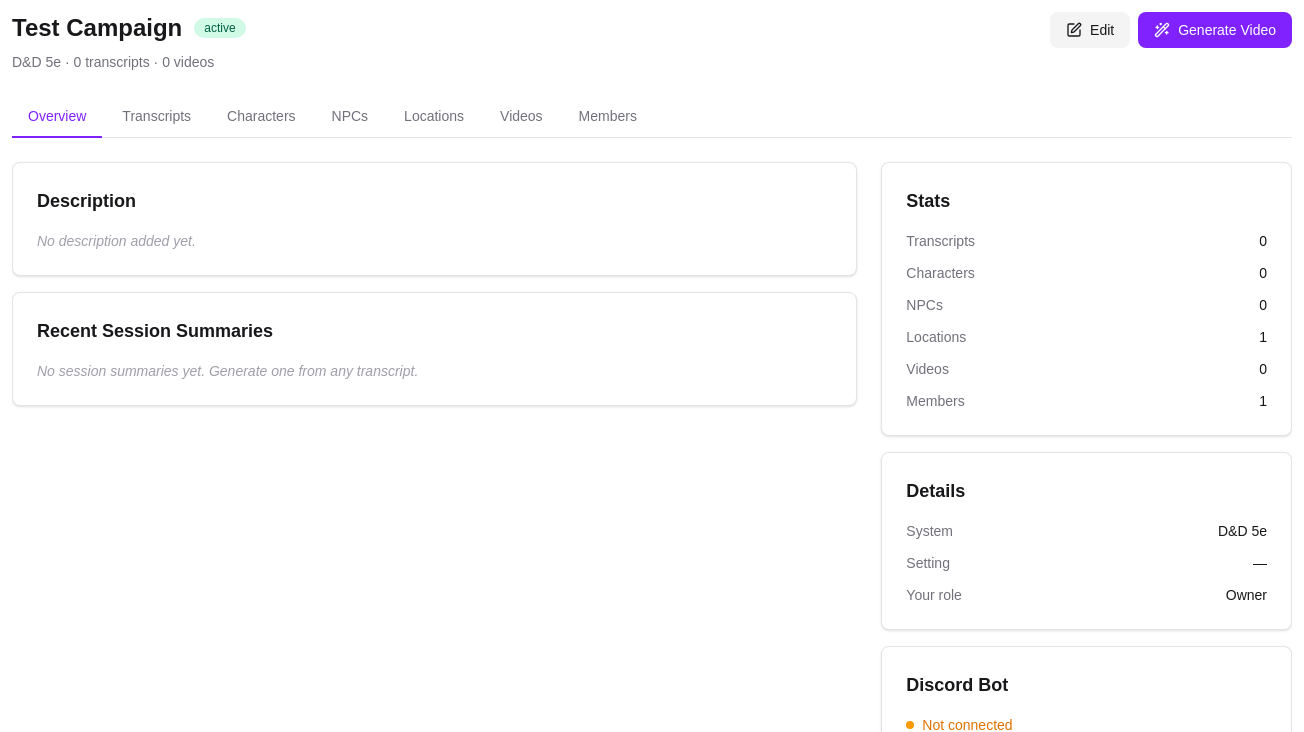
Test: CampaignDetailTabs — tab content › renders Location cards when locations exist
Click the button "Locations" at [434, 117], box left=388, top=96, right=480, bottom=138
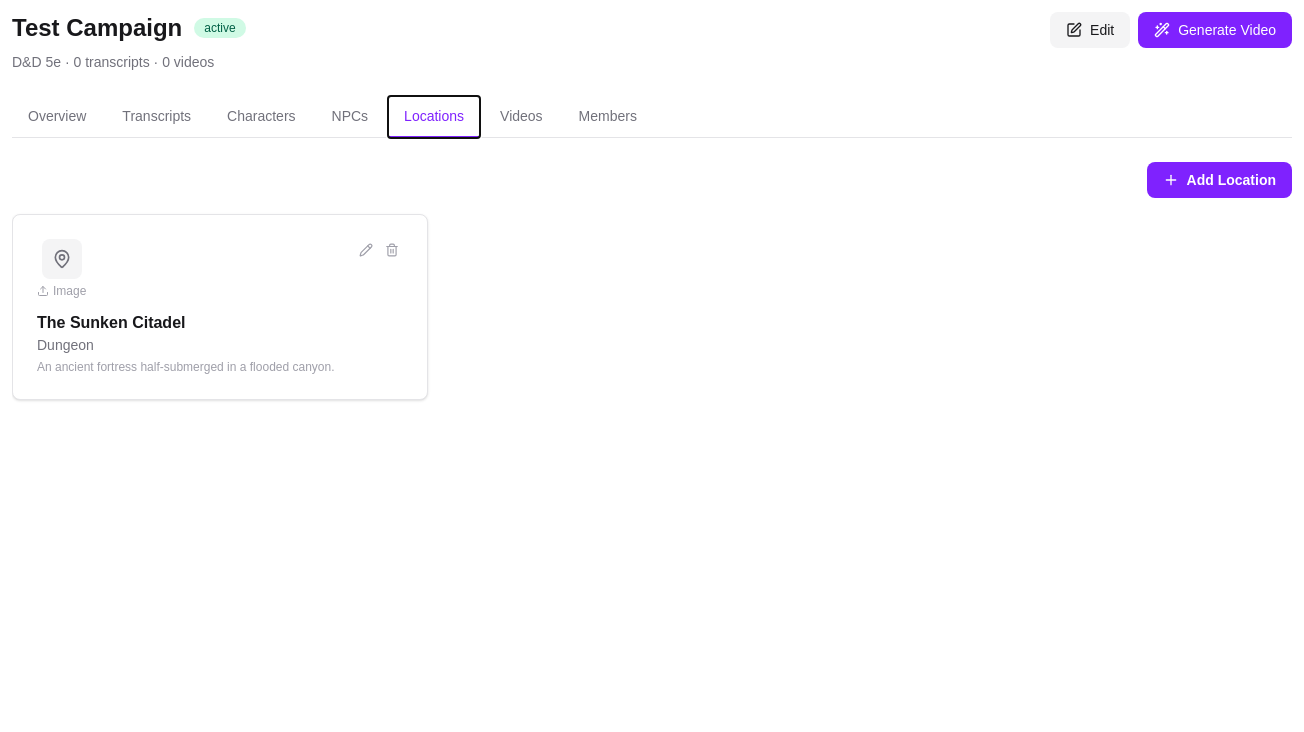
Result: the heading "The Sunken Citadel" is shown at left=37, top=314, right=186, bottom=331
